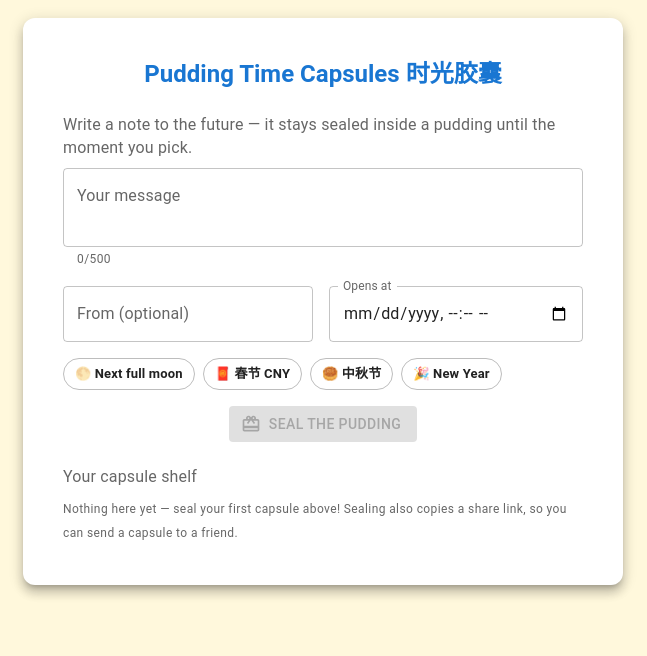
Test: Capsules › seals a message onto the shelf and clears the form
Step 1. Type "hi future" into the text box labelled "Your message" → {"x": 323, "y": 207}, box x1=77 y1=184 x2=569 y2=230
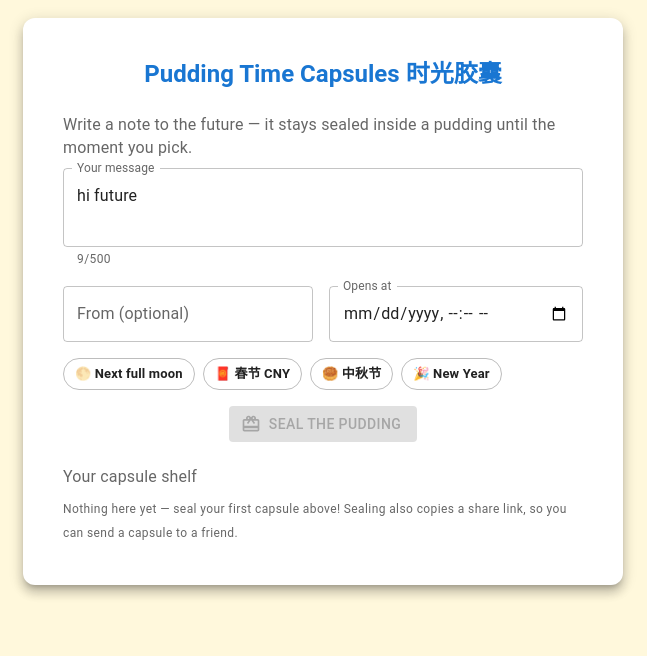
Step 2. Type "2099-01-01T09:00" into the field labelled "Opens at" → {"x": 456, "y": 314}, box x1=329 y1=286 x2=583 y2=342
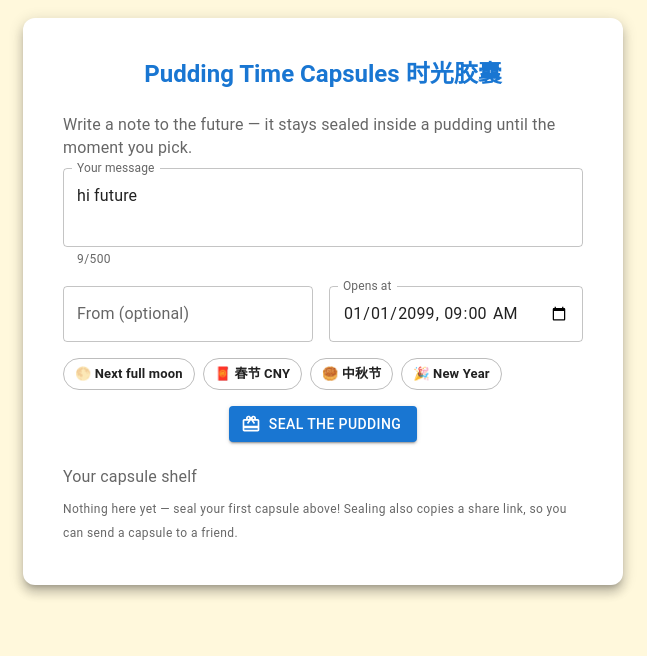
Step 3. Click the button "Seal the pudding" → {"x": 323, "y": 424}, box x1=229 y1=406 x2=417 y2=442
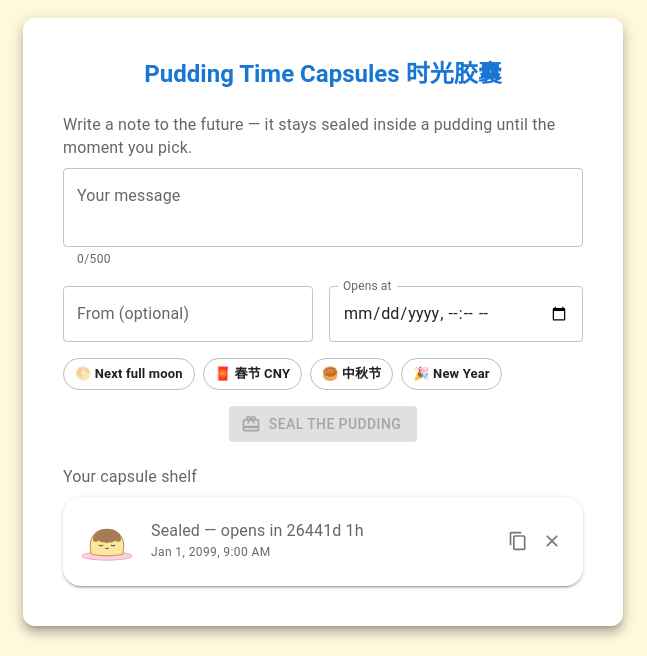
Check: the text "Sealed — opens in 26441d 1h" is shown, box x1=151 y1=521 x2=364 y2=540
Check: the text box labelled "Your message" is empty, box x1=77 y1=184 x2=569 y2=230
